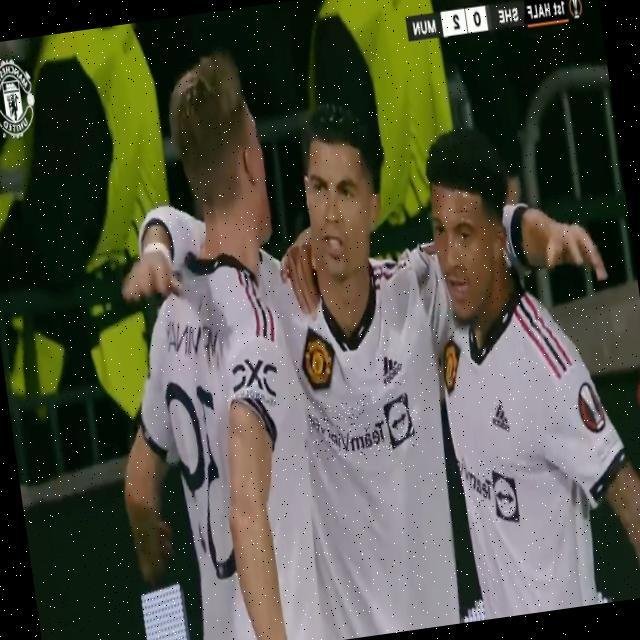Adidas: (380, 351, 406, 387), (487, 399, 510, 435)
TeamViewer: (307, 394, 416, 462), (457, 455, 520, 530)
